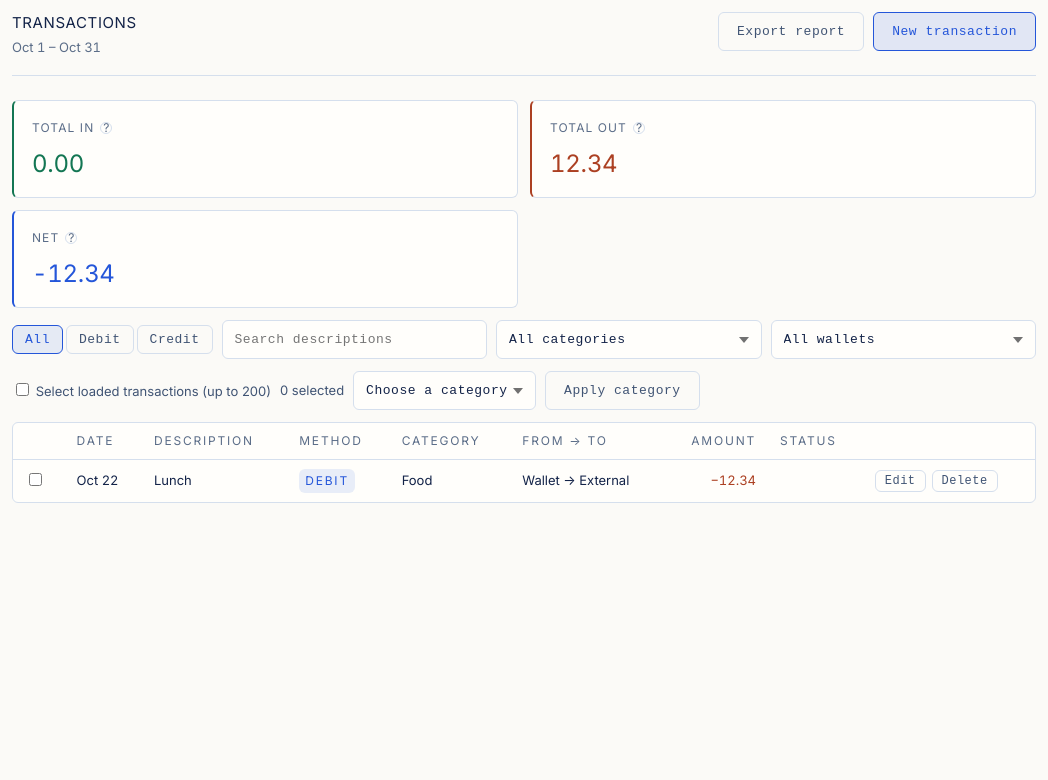
transaction cleanup › clears bulk selection when filters change
This screenshot has width=1048, height=780.
Expected: the cell "Lunch" is shown, top-left (142, 460), bottom-right (287, 502)
Click the checkbox named "Select transaction: Lunch" at (36, 480), box top-left (29, 473), bottom-right (42, 486)
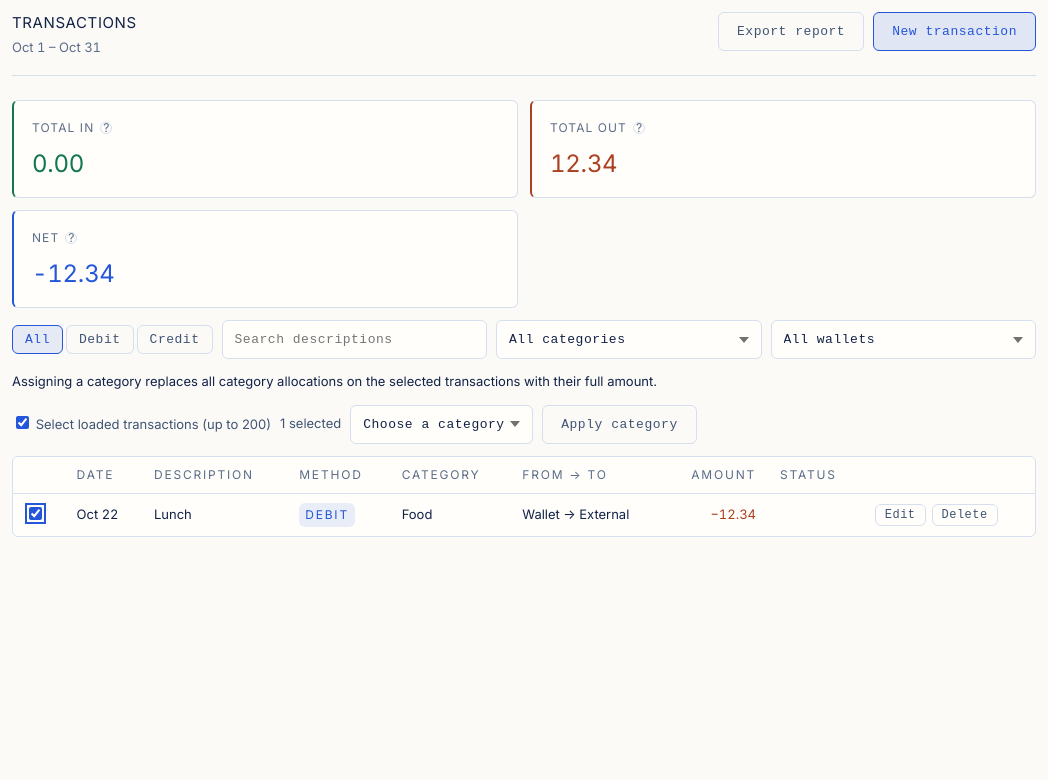
Now the text "1 selected" is shown, box top-left (280, 414), bottom-right (341, 434)
Select "Uncategorized" in the dropdown named "Category" at (629, 340), box top-left (496, 320), bottom-right (762, 359)
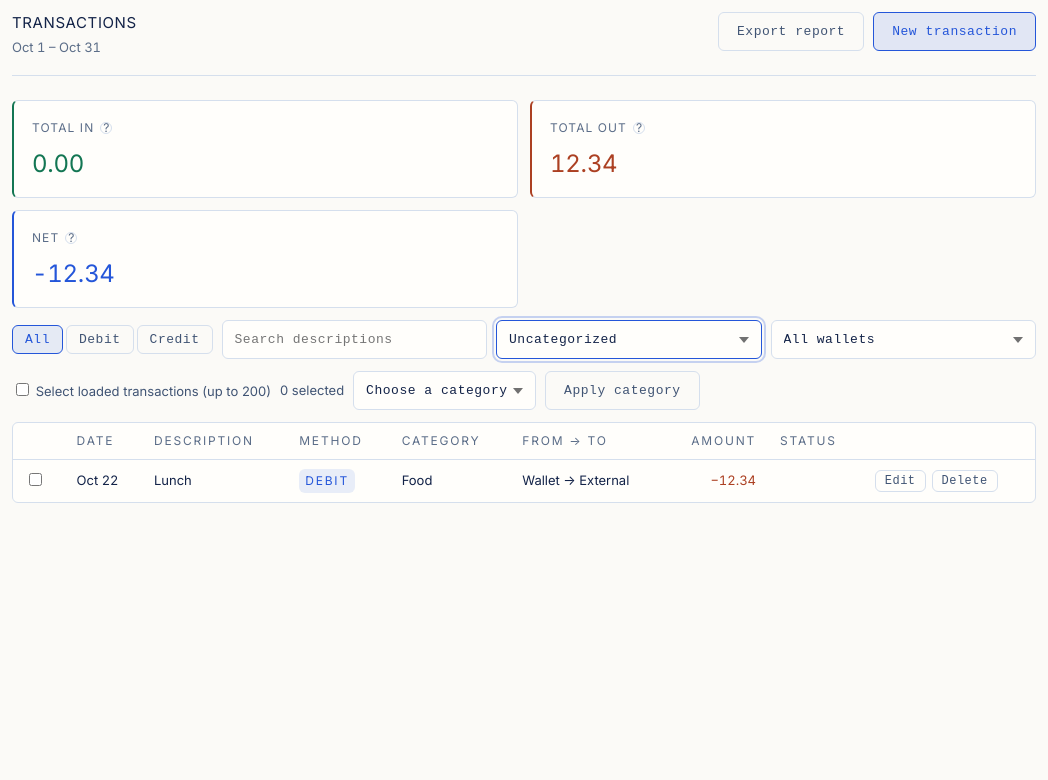
Now the text "0 selected" is shown, box top-left (280, 381), bottom-right (344, 400)
